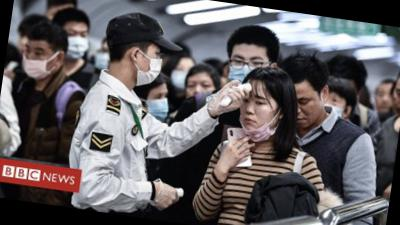mask_weared_incorrect: (233, 91, 280, 146)
with_mask: (226, 51, 269, 91), (18, 42, 55, 82), (135, 46, 166, 91), (61, 27, 91, 64), (142, 87, 172, 123), (169, 62, 196, 94), (94, 45, 112, 73)
without_mask: (290, 92, 323, 132), (372, 88, 397, 117), (388, 86, 400, 120)
